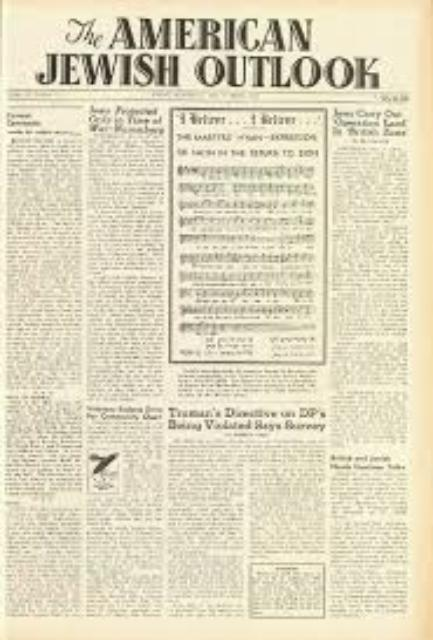cardboard paper: (2, 4, 420, 640)
